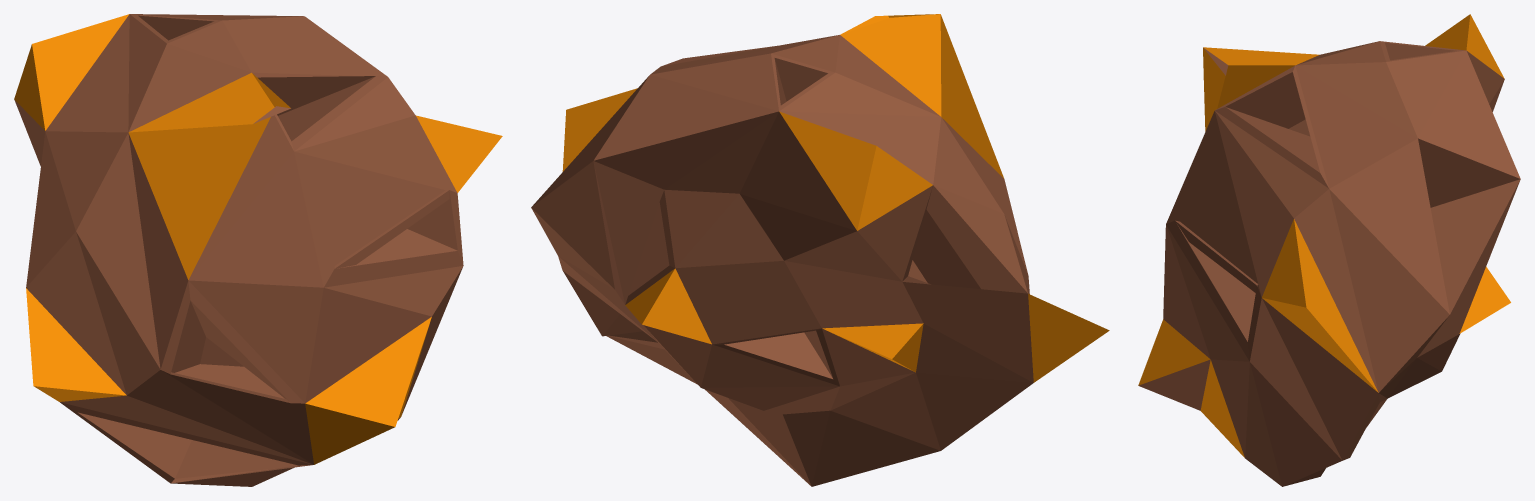
Rendered from AsteroidCristal.fbx.
3 views of the same model, side by side, from view 1: azimuth 30°, elevation 25°; view 2: azimuth 150°, elevation 25°; view 3: azimuth 270°, elevation 25° (orthographic). The views are drawn at different scales.
Parts seen in each view (by area): view 1: AsteroidCristal; view 2: AsteroidCristal; view 3: AsteroidCristal.
Part boxes in pixels (x1,y1,x2,y2): AsteroidCristal: [14, 14, 502, 486]; AsteroidCristal: [531, 14, 1109, 486]; AsteroidCristal: [1138, 14, 1520, 486].
Size of the model in its own units: 11.82 by 10.03 by 8.34.
